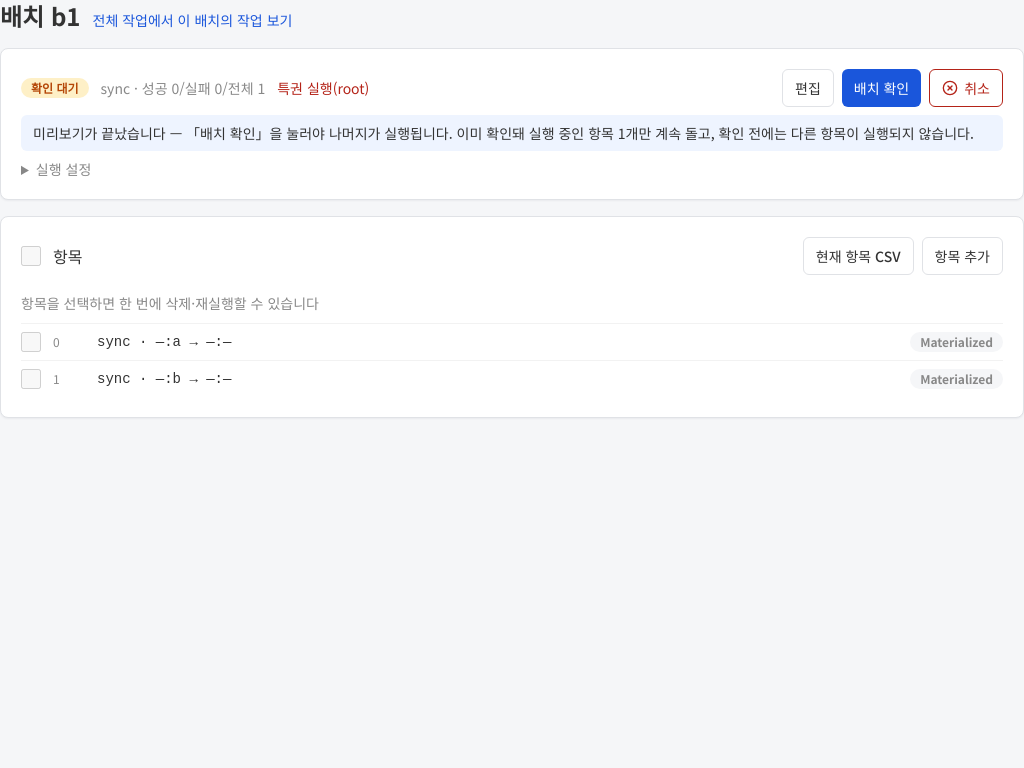
Test case: 확인 대기인데 이미 확인돼 실행 중인 항목이 있으면: 배너·대화상자가 그 항목은 계속 돈다고 말한다
Click the button "배치 확인" at {"x": 882, "y": 88}, box x1=842 y1=69 x2=921 y2=107
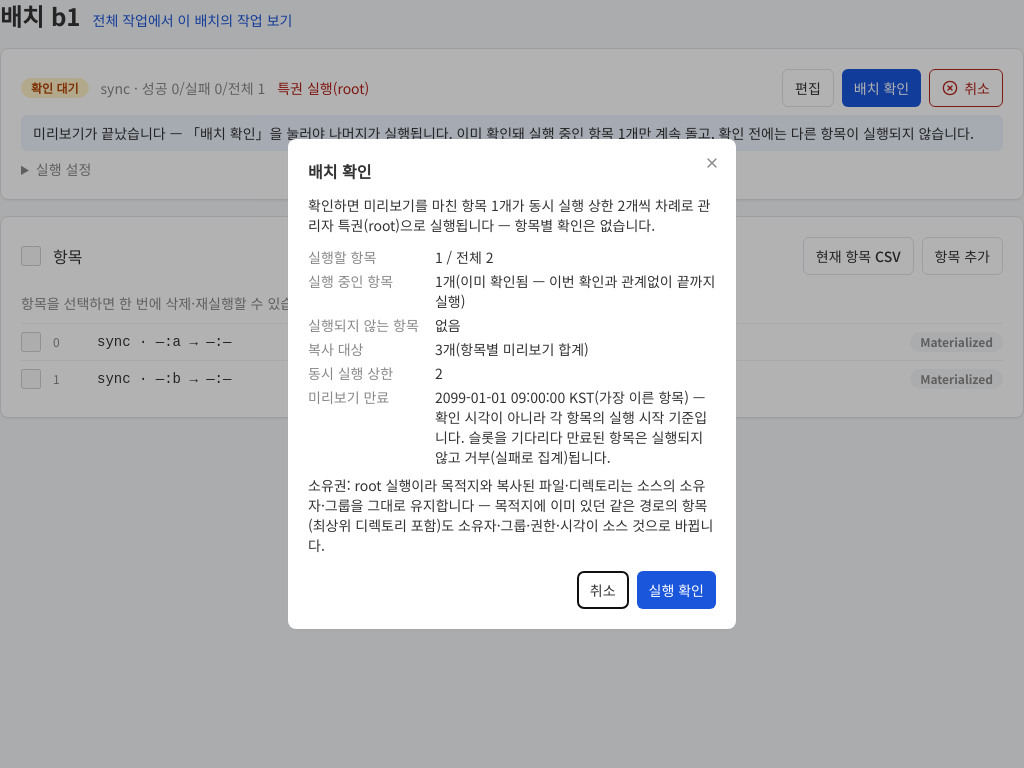
Now the text "1 / 전체 2" is shown, box x1=435 y1=247 x2=494 y2=267
Now the text "1개(이미 확인됨 — 이번 확인과 관계없이 끝까지 실행)" is shown, box x1=435 y1=271 x2=716 y2=311
